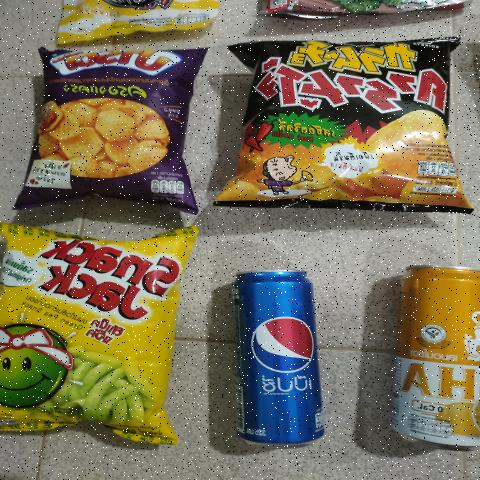karamujo: (226, 37, 460, 210)
party_purple: (31, 47, 199, 202)
pepsi_blue: (223, 263, 327, 448)
singha_yellow: (404, 261, 480, 450)
snack_jack: (0, 240, 167, 425)
